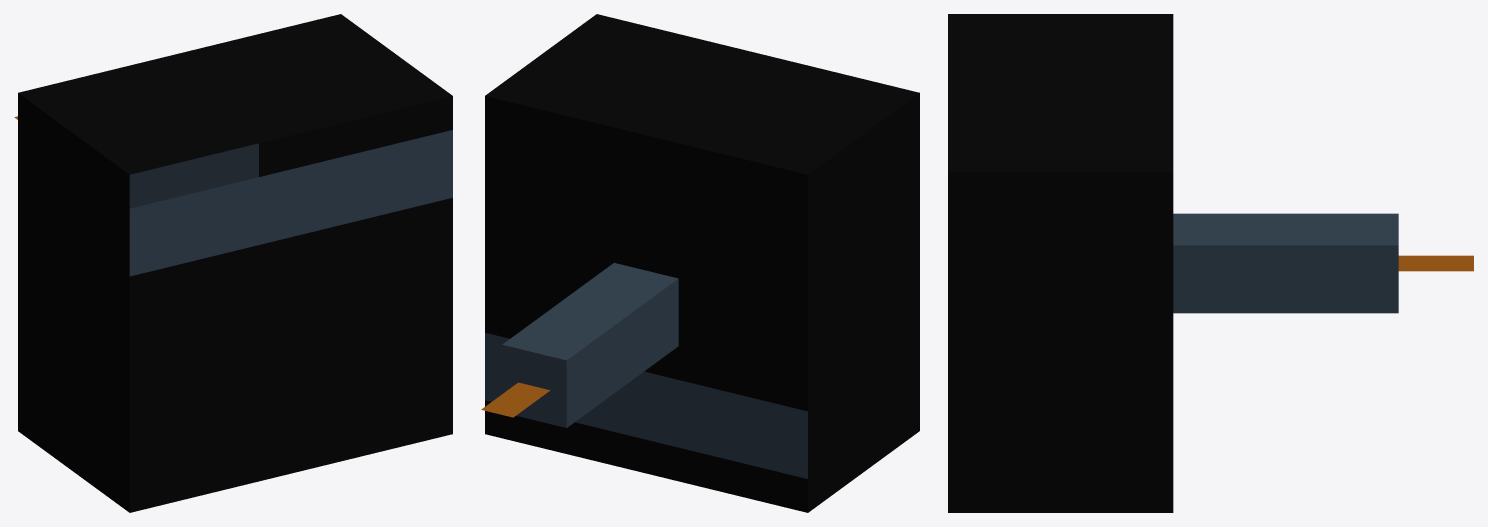
The model's file is Hat_SpelunkersArmor_Year1.glb.
3 renders of one model, left to right at view 1: azimuth 30°, elevation 25°; view 2: azimuth 150°, elevation 25°; view 3: azimuth 270°, elevation 25°, orthographic.
Parts seen in each view (by area): view 1: Hat_SpelunkersArmor_Year1.001; view 2: Hat_SpelunkersArmor_Year1.001; view 3: Hat_SpelunkersArmor_Year1.001.
Part boxes in pixels (bbox=[...]): Hat_SpelunkersArmor_Year1.001: bbox=[14, 14, 452, 512]; Hat_SpelunkersArmor_Year1.001: bbox=[481, 14, 919, 512]; Hat_SpelunkersArmor_Year1.001: bbox=[948, 14, 1473, 512].
Bounding box in the file's own units: 62.5 × 62.5 × 87.5.
1 material, 1 textured.
